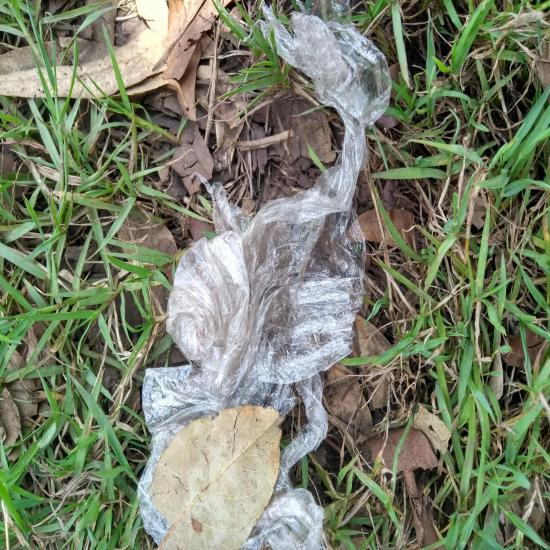Plastic lid: (163, 381, 234, 474)
